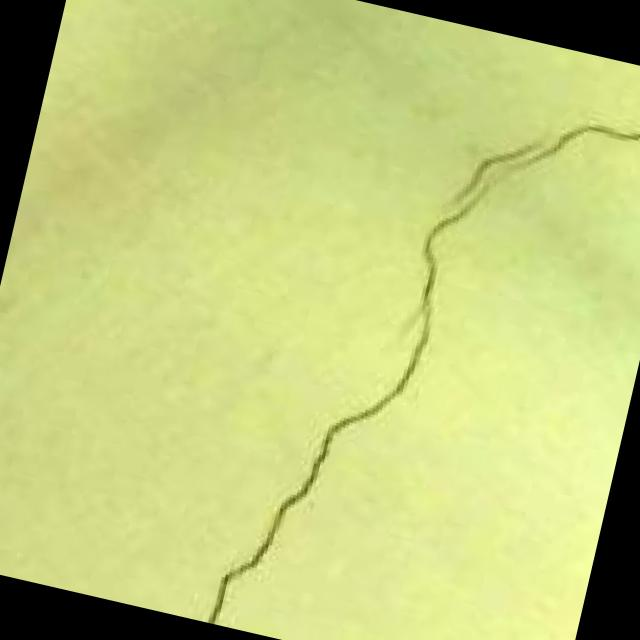crack: (183, 30, 640, 640)
